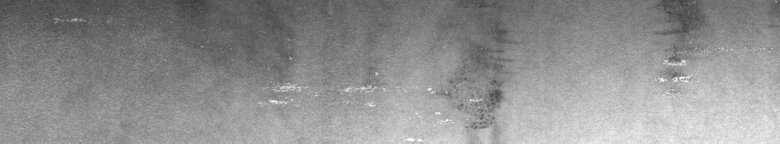hc: (655, 4, 728, 83)
